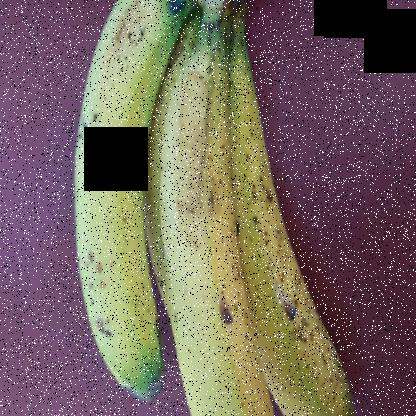ripe: (212, 29, 363, 416), (58, 1, 178, 400), (154, 49, 277, 415)
